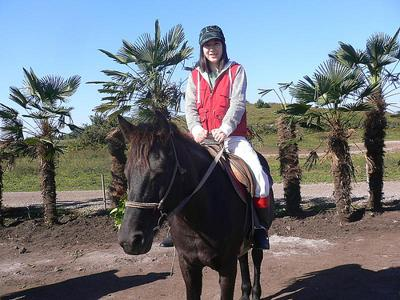person: (160, 26, 271, 252)
